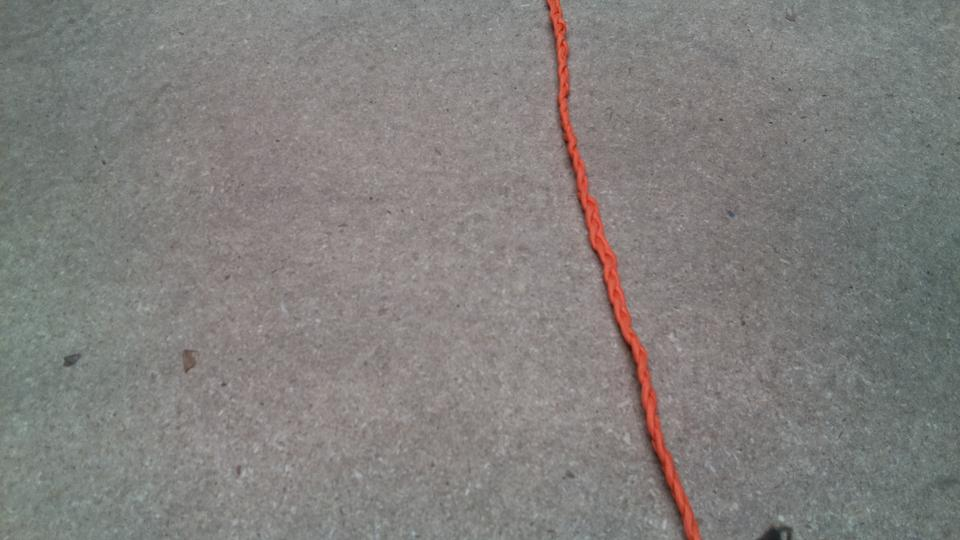rope: (541, 1, 710, 540)
